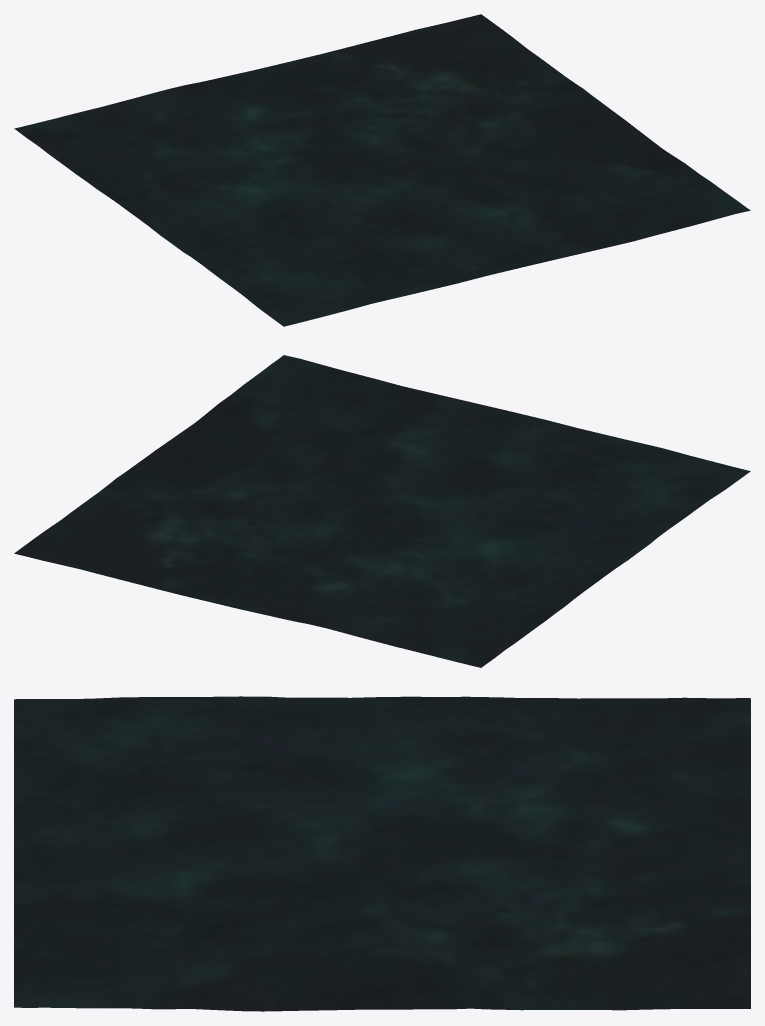
3 renders of one model, top to bottom at view 1: azimuth 30°, elevation 25°; view 2: azimuth 150°, elevation 25°; view 3: azimuth 270°, elevation 25°, orthographic. The views are drawn at different scales.
Bounding box in the file's own units: 52.22 × 0.3841 × 52.22.
Materials: 2 (2 with a texture image).
